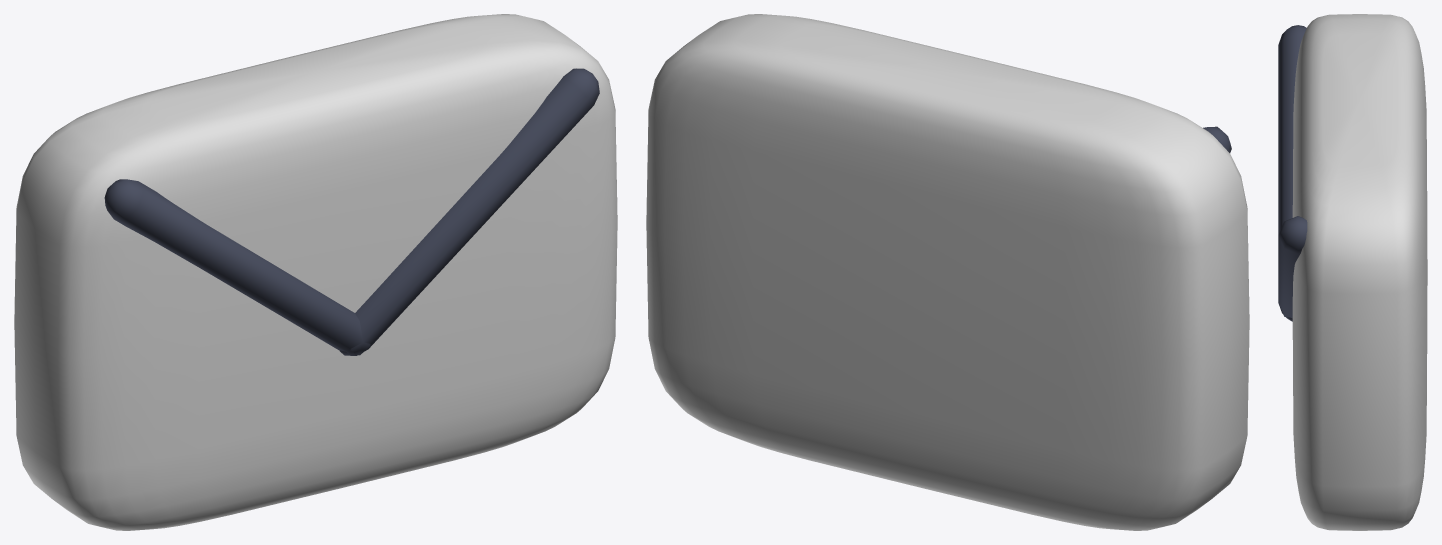
Rendered from mail.glb.
The picture shows the model from 3 angles, left to right: view 1: azimuth 30°, elevation 25°; view 2: azimuth 150°, elevation 25°; view 3: azimuth 270°, elevation 25°; orthographic projection. The views are drawn at different scales.
Parts seen in each view (by area): view 1: mail; view 2: mail; view 3: mail.
Part boxes in pixels (x1,y1,x2,y2): mail: [14, 14, 617, 530]; mail: [646, 14, 1249, 530]; mail: [1278, 14, 1427, 530].
Bounding box in the file's own units: 1 × 0.68 × 0.265.
